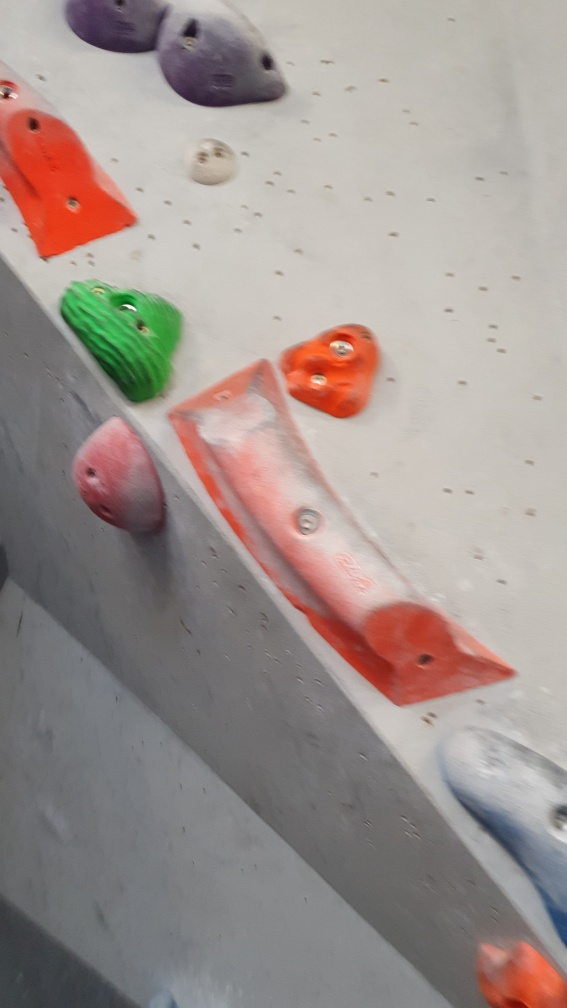Jug: (153, 1, 291, 110), (60, 275, 181, 396)
Pinch: (163, 357, 514, 705), (437, 725, 567, 954), (1, 58, 137, 260)
Sloper: (71, 412, 168, 536)
